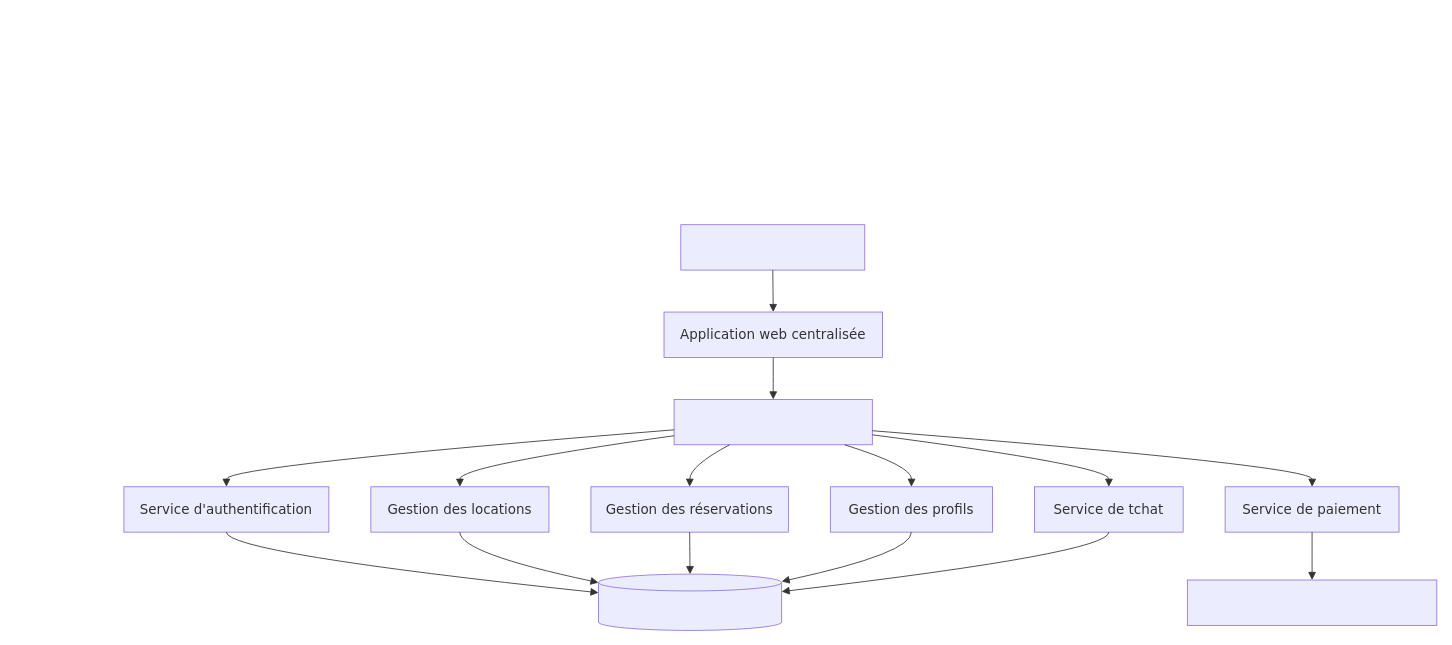
Image size: 1452x645. Some labels were removed from this diagram. The shapes that lost their labels are listed below. From the top down, each one's centre as x and y in pixels, then its label:
At (x=772, y=247): "Clients internationaux".
At (x=772, y=422): "API / Backend centralisé".
At (x=690, y=601): "Base de données centralisée".
At (x=1311, y=602): "Fournisseur de paiement externe".
